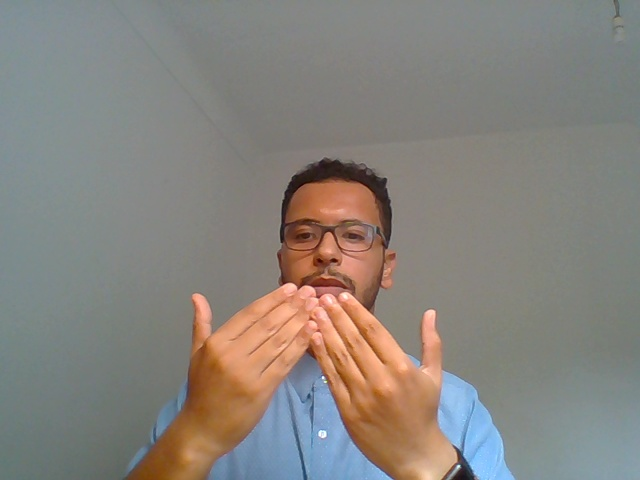thanks: (112, 269, 563, 480)
